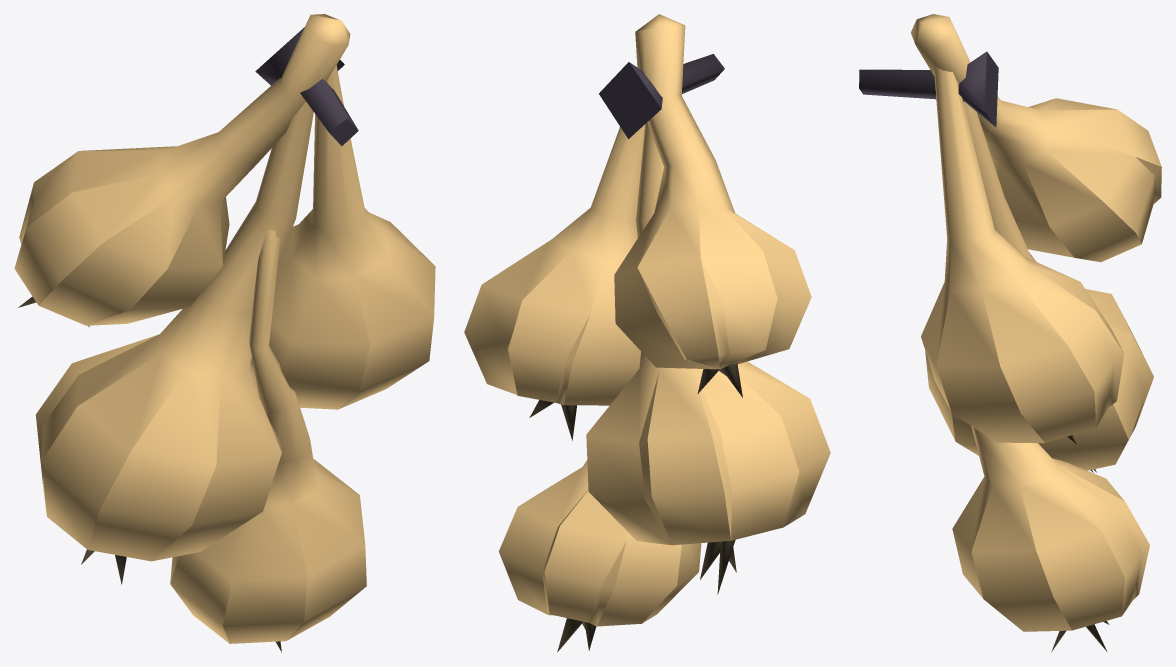
Rendered from wall_garlic.glb.
The picture shows the model from 3 angles, left to right: view 1: azimuth 30°, elevation 25°; view 2: azimuth 150°, elevation 25°; view 3: azimuth 270°, elevation 25°; orthographic projection. The views are drawn at different scales.
Parts seen in each view (by area): view 1: garlic; view 2: garlic; view 3: garlic.
Boxes of the visible parts, x1,y1,x2,y2 form: garlic: [14, 14, 435, 652]; garlic: [464, 14, 830, 652]; garlic: [859, 14, 1161, 652].
Bounding box in the file's own units: 0.2649 × 0.4625 × 0.203.
Materials: 1 (1 with a texture image).
